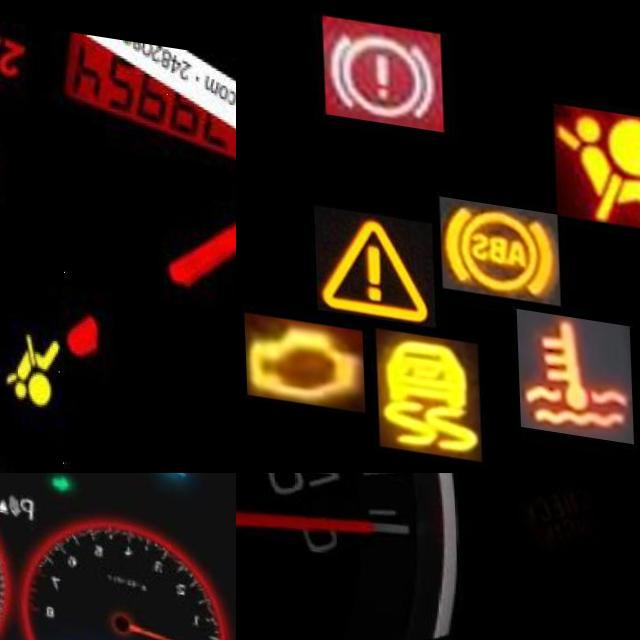Central Warning lamp: (312, 202, 433, 321)
Engine cooling system: (514, 299, 631, 431)
